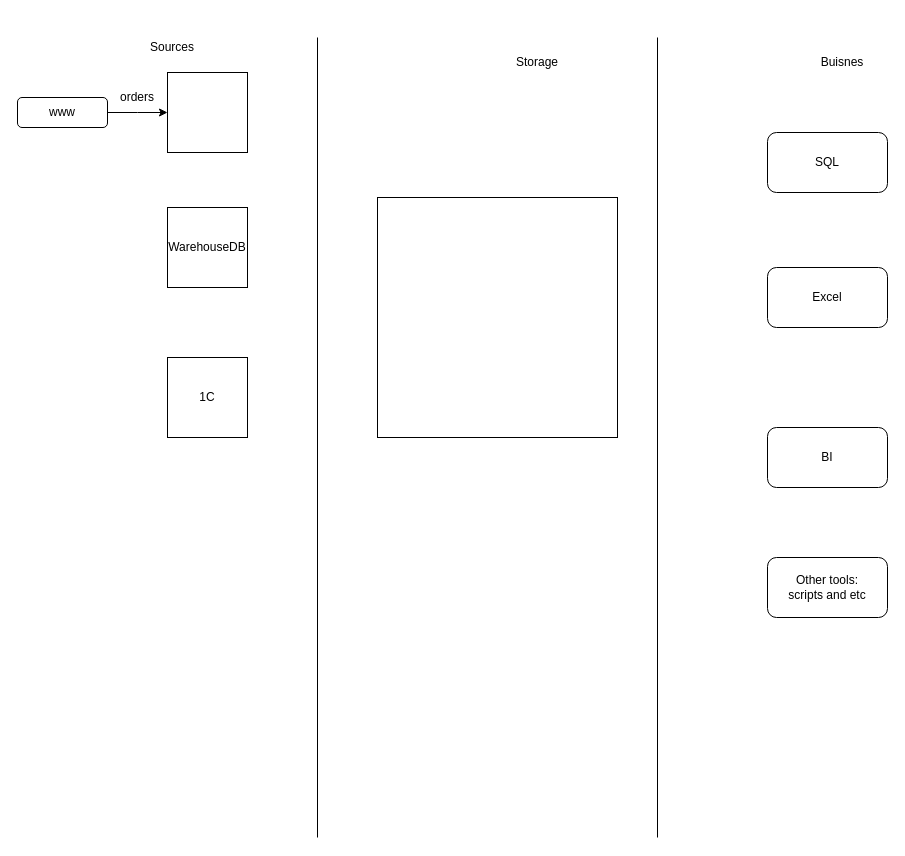
Image size: 905x856. Some labels were removed from this diagram. Each missing label, with the centre of its shape:
DW: pixel 497 317
Sales DB: остатки на точках продажи: pixel 207 112
